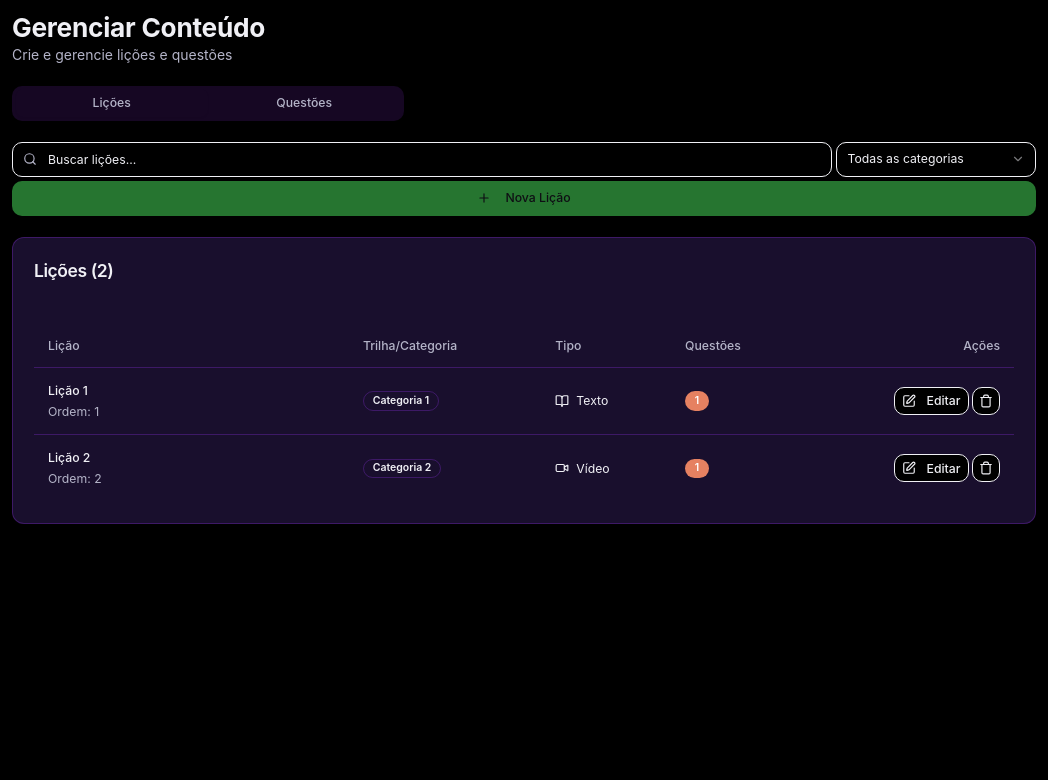
Test: AdminContent Component › filters questions by search term
The width and height of the screenshot is (1048, 780).
Click the tab "Questões" at (304, 103), box [208,89,400,117]
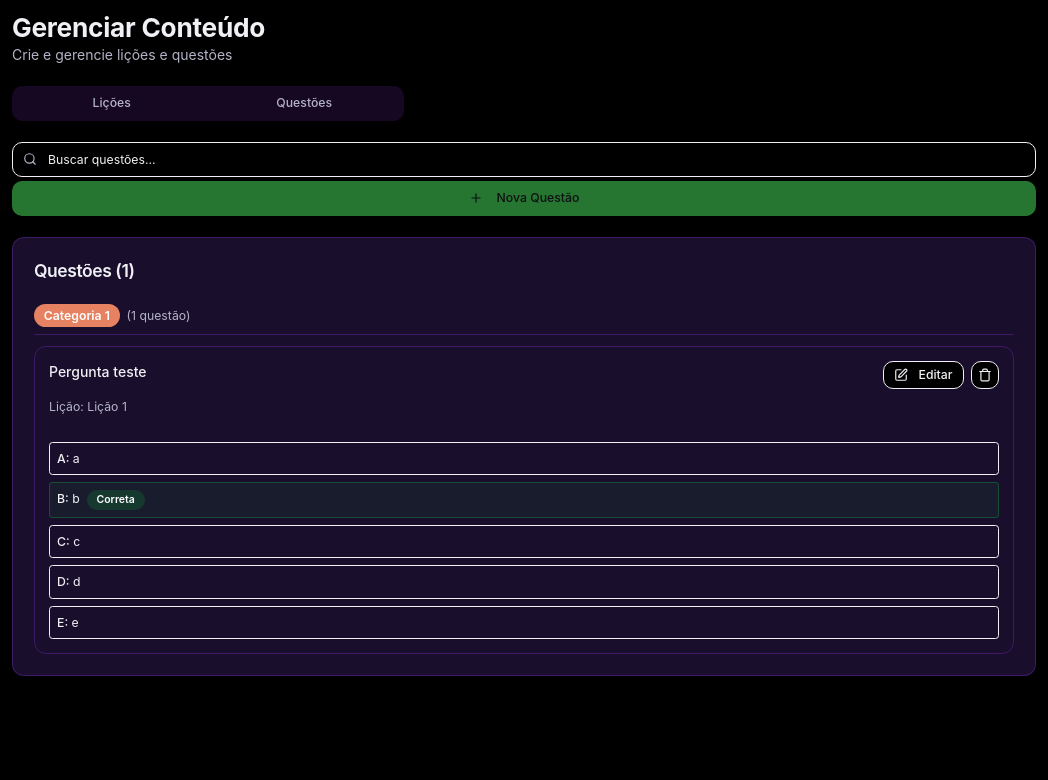
expect the text "Pergunta teste" is shown: met, box [49,362,146,380]
Type "nada a ver" into the field with placeholder "Buscar questões..." at (524, 159), box [12,142,1036,176]
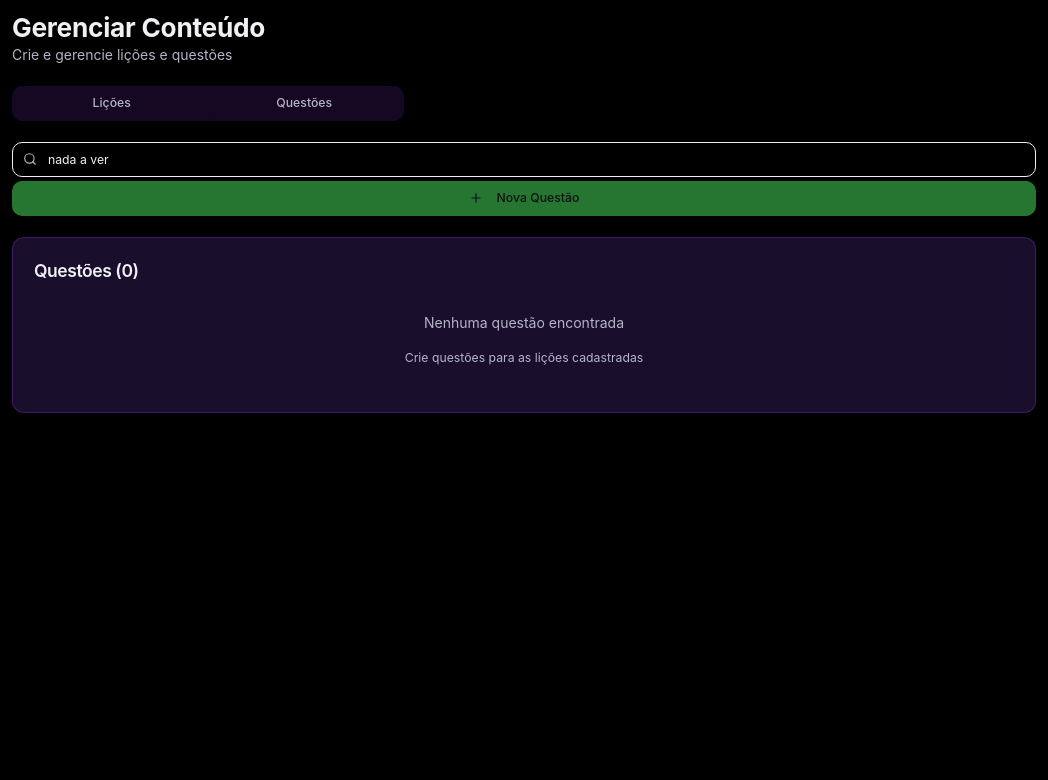
expect the text "Pergunta teste" is gone: met
